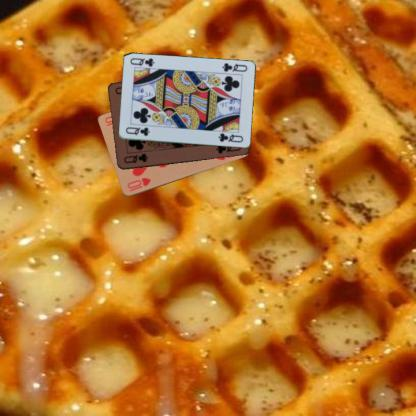10h: (125, 175, 152, 193)
Qc: (121, 150, 149, 164), (219, 60, 248, 72), (123, 125, 151, 137)
